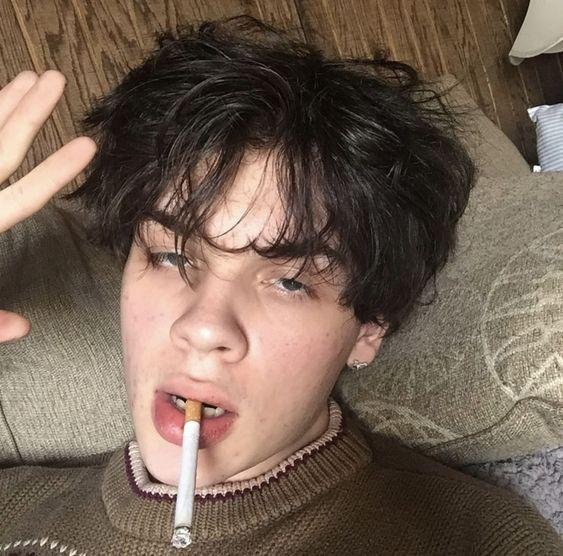cigarette: (172, 400, 202, 548)
